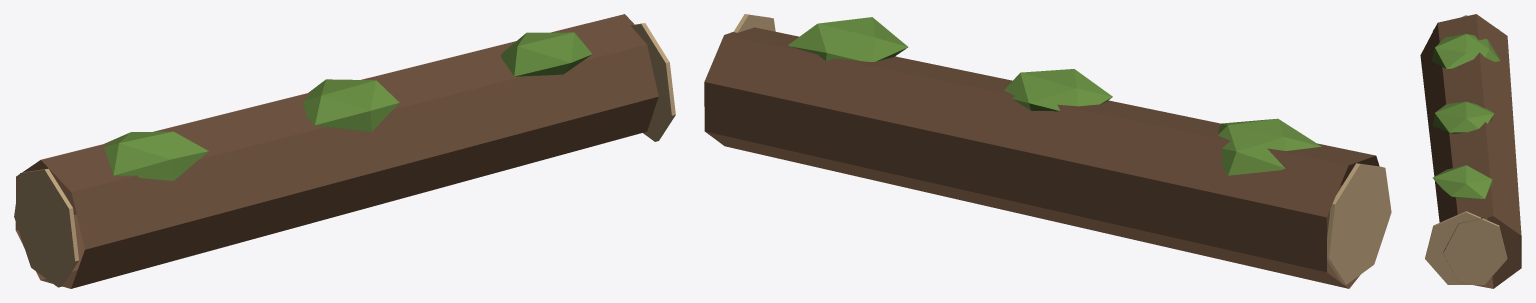
The model's file is log.glb.
3 renders of one model, left to right at view 1: azimuth 30°, elevation 25°; view 2: azimuth 150°, elevation 25°; view 3: azimuth 270°, elevation 25°, orthographic. The views are drawn at different scales.
Parts seen in each view (by area): view 1: foliage/log; view 2: foliage/log; view 3: foliage/log.
Boxes of the visible parts, bbox=[...] form: foliage/log: bbox=[14, 14, 675, 288]; foliage/log: bbox=[704, 14, 1391, 288]; foliage/log: bbox=[1420, 14, 1521, 288].
Bounding box in the file's own units: 3.03 × 0.6028 × 0.6538.
